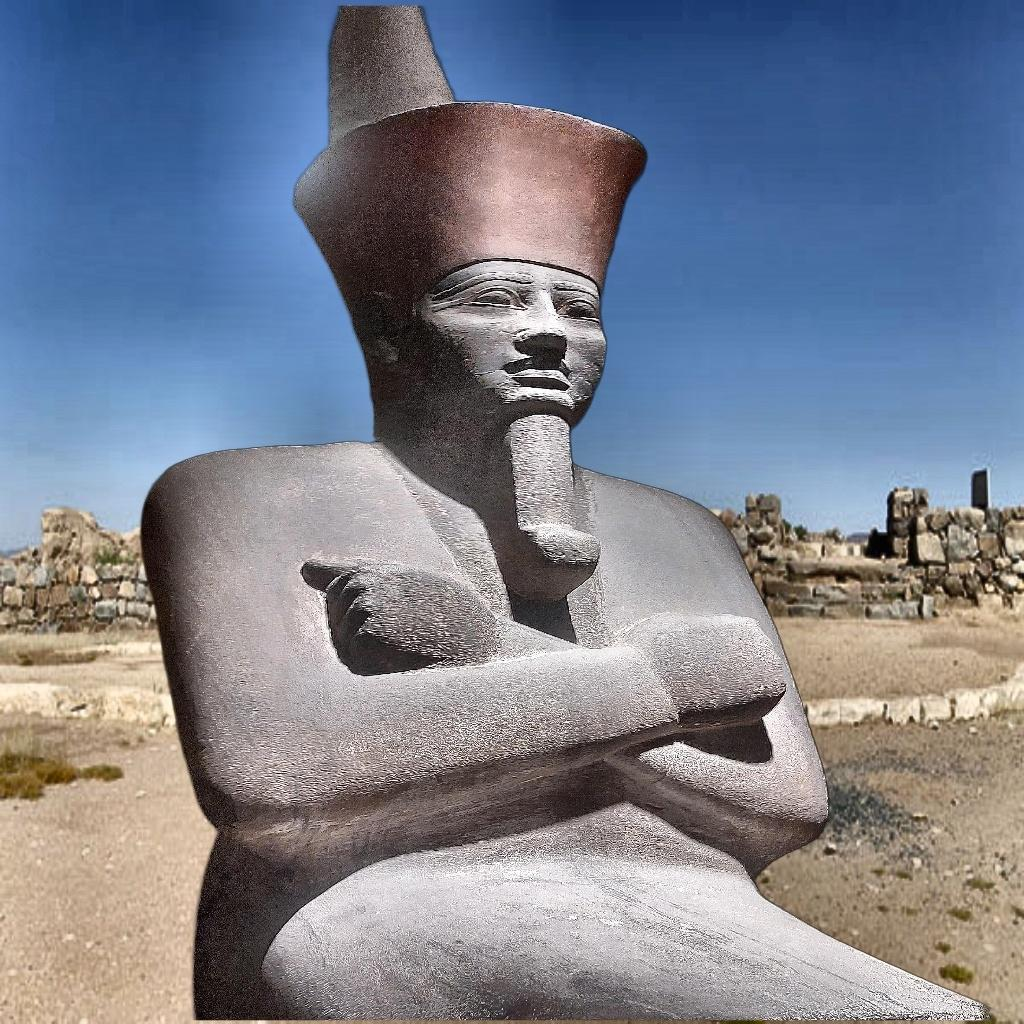Mentuhotep Nebhetpre: (134, 6, 1016, 1020)
